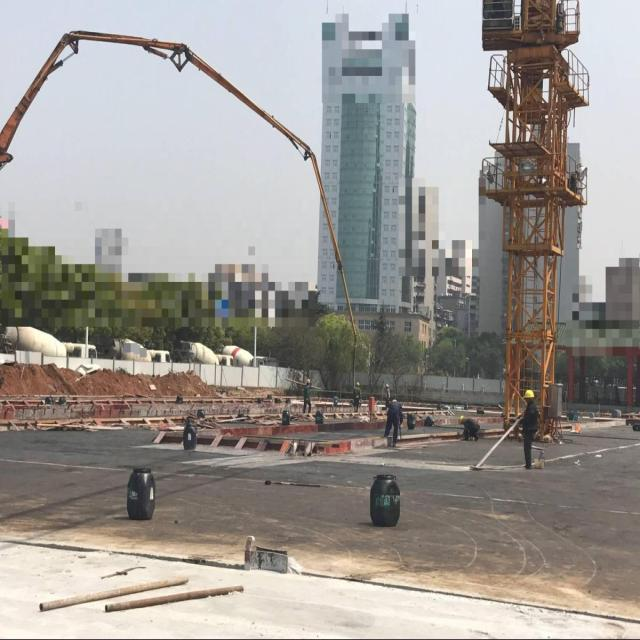crane: (472, 0, 597, 438)
truck: (0, 22, 370, 417)
